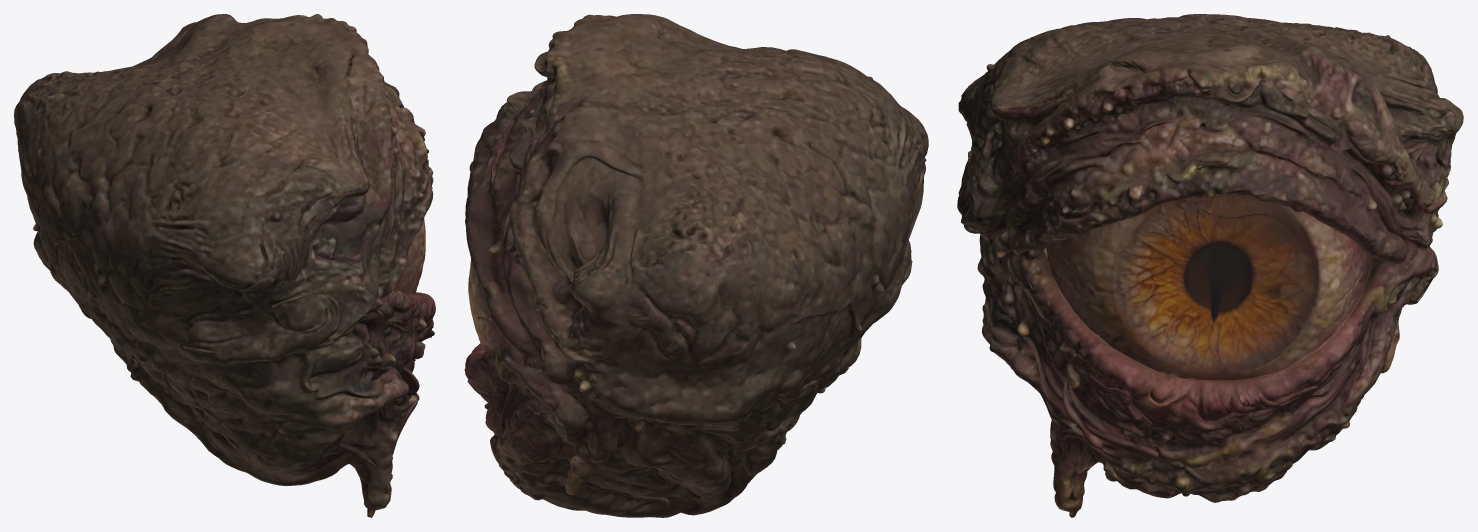
Rendered from abyss-eye.glb.
3 renders of one model, left to right at view 1: azimuth 30°, elevation 25°; view 2: azimuth 150°, elevation 25°; view 3: azimuth 270°, elevation 25°, orthographic. The views are drawn at different scales.
Parts seen in each view (by area): view 1: tripo_node_ebe158ba-29e4-48fc-a5ad-1eb4d9f2ba26; view 2: tripo_node_ebe158ba-29e4-48fc-a5ad-1eb4d9f2ba26; view 3: tripo_node_ebe158ba-29e4-48fc-a5ad-1eb4d9f2ba26.
Boxes of the visible parts, <box> form: tripo_node_ebe158ba-29e4-48fc-a5ad-1eb4d9f2ba26: <box>14,14,435,517</box>; tripo_node_ebe158ba-29e4-48fc-a5ad-1eb4d9f2ba26: <box>464,14,928,517</box>; tripo_node_ebe158ba-29e4-48fc-a5ad-1eb4d9f2ba26: <box>957,14,1463,517</box>.
Bounding box in the file's own units: 0.7658 × 0.9818 × 0.9671.
Materials: 1 (1 with a texture image).
